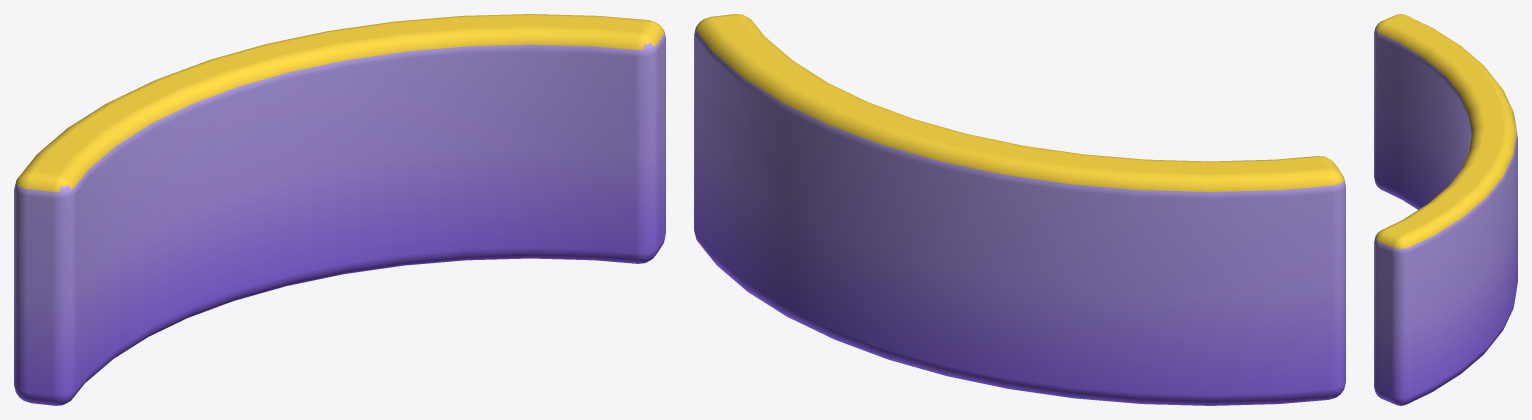
The model's file is curved_wall_r4_90deg_h2.glb.
3 renders of one model, left to right at view 1: azimuth 30°, elevation 25°; view 2: azimuth 150°, elevation 25°; view 3: azimuth 270°, elevation 25°, orthographic. The views are drawn at different scales.
Visible parts, largest first — view 1: curved_wall_r4_90deg_h2; view 2: curved_wall_r4_90deg_h2; view 3: curved_wall_r4_90deg_h2.
Part boxes in pixels (<box>): curved_wall_r4_90deg_h2: <box>14,14,665,405</box>; curved_wall_r4_90deg_h2: <box>694,14,1345,405</box>; curved_wall_r4_90deg_h2: <box>1374,14,1517,405</box>.
Bounding box in the file's own units: 5.88 × 2 × 1.54.
1 material, 1 textured.
